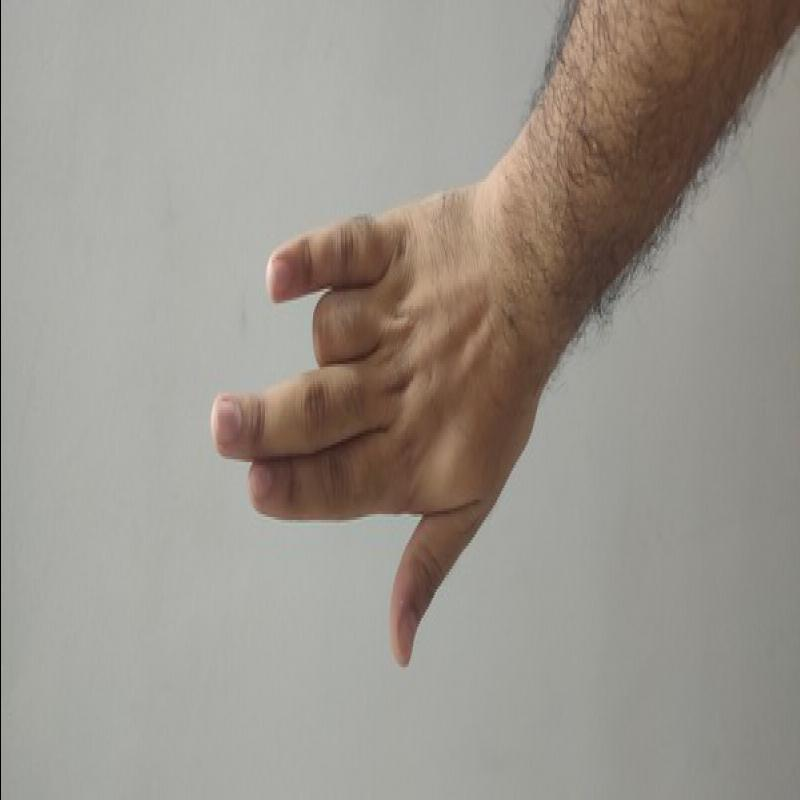Pathaaka: (182, 185, 529, 677)
